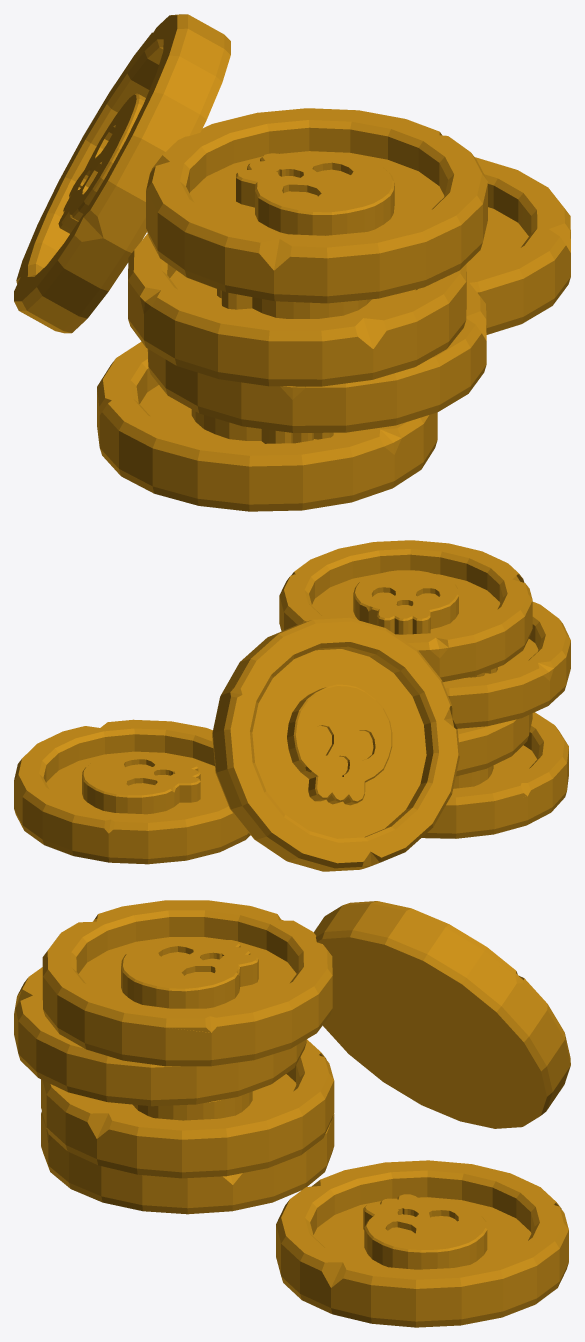
Rendered from Coin3.obj.
The picture shows the model from 3 angles, top to bottom: view 1: azimuth 30°, elevation 25°; view 2: azimuth 150°, elevation 25°; view 3: azimuth 270°, elevation 25°; orthographic projection. The views are drawn at different scales.
Visible parts, largest first — view 1: skull_coin_reference.003, skull_coin_reference.005_skull_coin_reference.006, skull_coin_reference.002, skull_coin_reference, skull_coin_reference.001, skull_coin_reference.004_skull_coin_reference.005; view 2: skull_coin_reference.005_skull_coin_reference.006, skull_coin_reference.004_skull_coin_reference.005, skull_coin_reference.003, skull_coin_reference, skull_coin_reference.002, skull_coin_reference.001; view 3: skull_coin_reference.004_skull_coin_reference.005, skull_coin_reference.003, skull_coin_reference.005_skull_coin_reference.006, skull_coin_reference.001, skull_coin_reference.002, skull_coin_reference.
Part boxes in pixels (left/top/right/bottom): skull_coin_reference.003: left=146, top=108, right=487, bottom=303; skull_coin_reference.005_skull_coin_reference.006: left=14, top=14, right=230, bottom=333; skull_coin_reference.002: left=128, top=234, right=466, bottom=386; skull_coin_reference: left=97, top=341, right=437, bottom=511; skull_coin_reference.001: left=147, top=280, right=486, bottom=432; skull_coin_reference.004_skull_coin_reference.005: left=466, top=157, right=570, bottom=334; skull_coin_reference.005_skull_coin_reference.006: left=212, top=617, right=459, bottom=871; skull_coin_reference.004_skull_coin_reference.005: left=14, top=719, right=250, bottom=864; skull_coin_reference.003: left=279, top=540, right=532, bottom=681; skull_coin_reference: left=422, top=712, right=568, bottom=838; skull_coin_reference.002: left=443, top=602, right=570, bottom=728; skull_coin_reference.001: left=456, top=713, right=532, bottom=776; skull_coin_reference.004_skull_coin_reference.005: left=276, top=1160, right=568, bottom=1327; skull_coin_reference.003: left=42, top=900, right=332, bottom=1066; skull_coin_reference.005_skull_coin_reference.006: left=314, top=901, right=570, bottom=1128; skull_coin_reference.001: left=41, top=1039, right=334, bottom=1178; skull_coin_reference.002: left=14, top=967, right=306, bottom=1106; skull_coin_reference: left=41, top=1111, right=334, bottom=1214.
Size of the model in its own units: 3.83 by 1.98 by 3.8.
